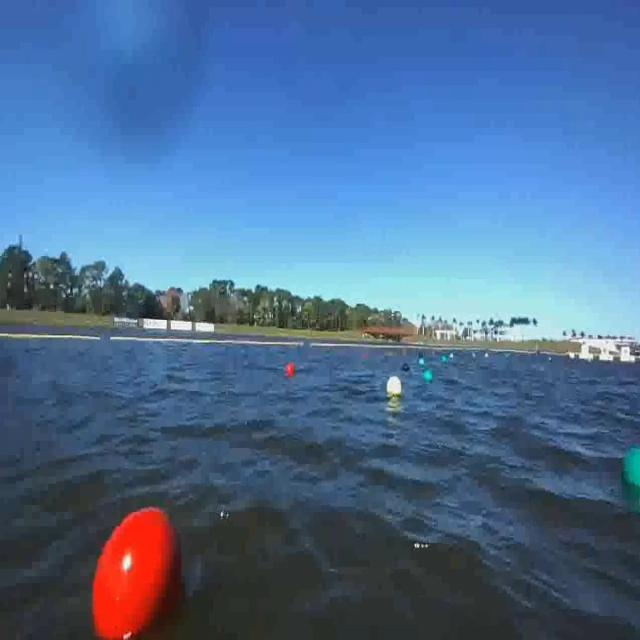red-buoy: (79, 494, 196, 638)
yellow-buoy: (385, 373, 400, 396)
